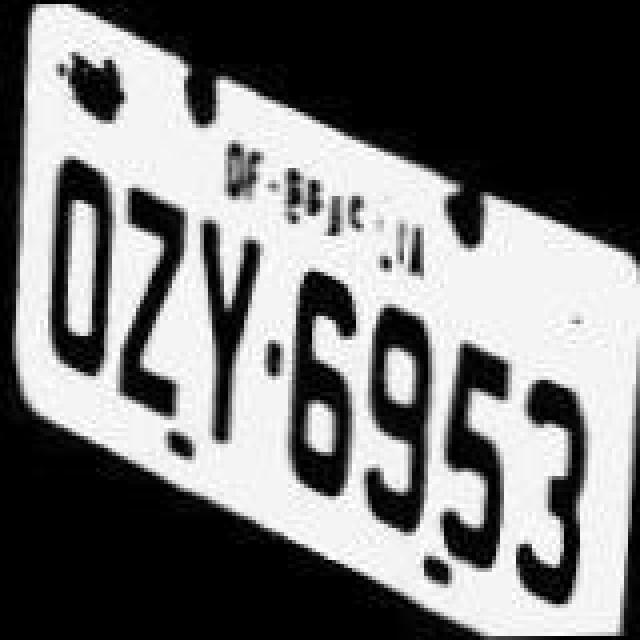3: (508, 374, 592, 610)
5: (428, 324, 516, 568)
6: (276, 262, 360, 506)
9: (360, 292, 436, 536)
O: (40, 148, 128, 388)
Y: (194, 204, 270, 456)
Z: (106, 174, 190, 426)
